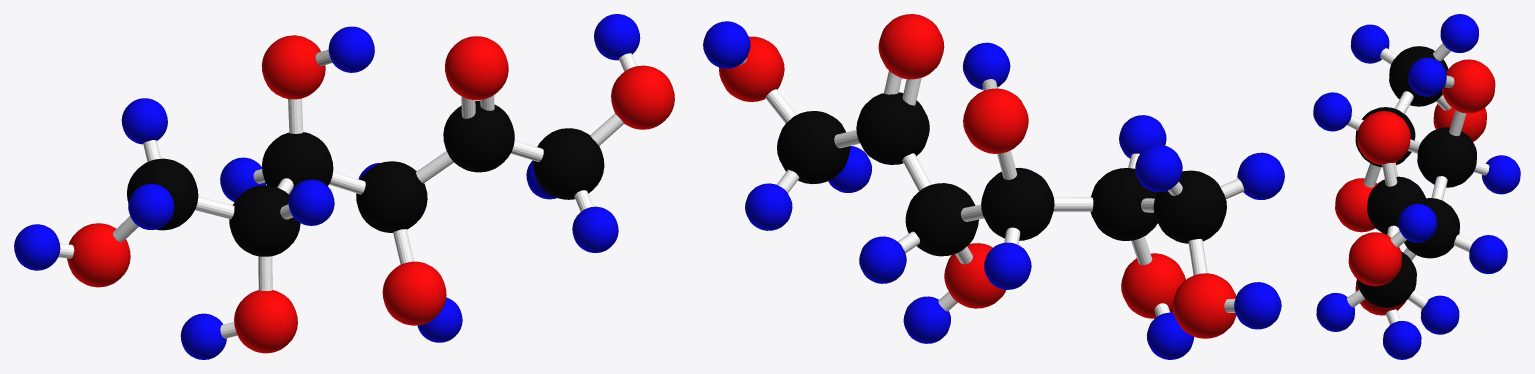
Rendered from frutose.obj.
The picture shows the model from 3 angles, left to right: view 1: azimuth 30°, elevation 25°; view 2: azimuth 150°, elevation 25°; view 3: azimuth 270°, elevation 25°; orthographic projection. The views are drawn at different scales.
Visible parts, largest first — view 1: Shape_Sphere.003_Shape_Sphere.004, Shape_Sphere.005_Shape_Sphere.006, Shape_Sphere.004_Shape_Sphere.005, Shape_Sphere.001_Shape_Sphere.002, Shape_Sphere.016_Shape_Sphere.017, Shape_Sphere.023_Shape_Sphere.024, Shape_Sphere.019_Shape_Sphere.020, Shape_Sphere.010_Shape_Sphere.011, Shape_Sphere.013_Shape_Sphere.014, Shape_Sphere.002_Shape_Sphere.003, Shape_Sphere.006_Shape_Sphere.007, Shape_Sphere_Shape_Sphere.001 (+10 smaller); view 2: Shape_Sphere.004_Shape_Sphere.005, Shape_Sphere.005_Shape_Sphere.006, Shape_Sphere.002_Shape_Sphere.003, Shape_Sphere.003_Shape_Sphere.004, Shape_Sphere_Shape_Sphere.001, Shape_Sphere.001_Shape_Sphere.002, Shape_Sphere.013_Shape_Sphere.014, Shape_Sphere.023_Shape_Sphere.024, Shape_Sphere.006_Shape_Sphere.007, Shape_Sphere.010_Shape_Sphere.011, Shape_Sphere.019_Shape_Sphere.020, Shape_Sphere.016_Shape_Sphere.017 (+12 smaller); view 3: Shape_Sphere.002_Shape_Sphere.003, Shape_Sphere.023_Shape_Sphere.024, Shape_Sphere.019_Shape_Sphere.020, Shape_Sphere.013_Shape_Sphere.014, Shape_Sphere.004_Shape_Sphere.005, Shape_Sphere.003_Shape_Sphere.004, Shape_Sphere.010_Shape_Sphere.011, Shape_Sphere.005_Shape_Sphere.006, Shape_Sphere_Shape_Sphere.001, Shape_Sphere.011_Shape_Sphere.012, Shape_Sphere.015_Shape_Sphere.016, Shape_Sphere.007_Shape_Sphere.008 (+10 smaller).
Boxes of the visible parts, x1,y1,x2,y2 form: Shape_Sphere.003_Shape_Sphere.004: (356, 161, 427, 232); Shape_Sphere.005_Shape_Sphere.006: (533, 128, 604, 199); Shape_Sphere.004_Shape_Sphere.005: (443, 100, 514, 172); Shape_Sphere.001_Shape_Sphere.002: (229, 185, 300, 256); Shape_Sphere.016_Shape_Sphere.017: (382, 261, 446, 325); Shape_Sphere.023_Shape_Sphere.024: (444, 36, 508, 100); Shape_Sphere.019_Shape_Sphere.020: (611, 65, 674, 129); Shape_Sphere.010_Shape_Sphere.011: (234, 290, 297, 353); Shape_Sphere.013_Shape_Sphere.014: (261, 35, 325, 99); Shape_Sphere.002_Shape_Sphere.003: (262, 132, 333, 194); Shape_Sphere.006_Shape_Sphere.007: (67, 223, 130, 287); Shape_Sphere_Shape_Sphere.001: (127, 158, 198, 230); Shape_Sphere.004_Shape_Sphere.005: (856, 92, 929, 164); Shape_Sphere.005_Shape_Sphere.006: (777, 111, 850, 184); Shape_Sphere.002_Shape_Sphere.003: (981, 167, 1054, 240); Shape_Sphere.003_Shape_Sphere.004: (905, 183, 978, 256); Shape_Sphere_Shape_Sphere.001: (1153, 170, 1226, 243); Shape_Sphere.001_Shape_Sphere.002: (1090, 168, 1157, 240); Shape_Sphere.013_Shape_Sphere.014: (963, 88, 1028, 153); Shape_Sphere.023_Shape_Sphere.024: (878, 14, 944, 79); Shape_Sphere.006_Shape_Sphere.007: (1172, 273, 1236, 338); Shape_Sphere.010_Shape_Sphere.011: (1121, 253, 1185, 318); Shape_Sphere.019_Shape_Sphere.020: (719, 36, 784, 101); Shape_Sphere.016_Shape_Sphere.017: (944, 243, 1005, 308); Shape_Sphere.002_Shape_Sphere.003: (1417, 127, 1476, 187); Shape_Sphere.023_Shape_Sphere.024: (1357, 111, 1410, 164); Shape_Sphere.019_Shape_Sphere.020: (1348, 232, 1401, 286); Shape_Sphere.013_Shape_Sphere.014: (1442, 59, 1495, 113); Shape_Sphere.004_Shape_Sphere.005: (1367, 176, 1426, 234); Shape_Sphere.003_Shape_Sphere.004: (1404, 198, 1459, 258); Shape_Sphere.010_Shape_Sphere.011: (1335, 178, 1377, 232); Shape_Sphere.005_Shape_Sphere.006: (1357, 251, 1416, 307); Shape_Sphere_Shape_Sphere.001: (1389, 46, 1447, 106); Shape_Sphere.011_Shape_Sphere.012: (1313, 92, 1351, 131); Shape_Sphere.015_Shape_Sphere.016: (1408, 57, 1446, 96); Shape_Sphere.007_Shape_Sphere.008: (1440, 14, 1478, 52).
Size of the model in its own units: 9.79 by 4.99 by 3.49.
